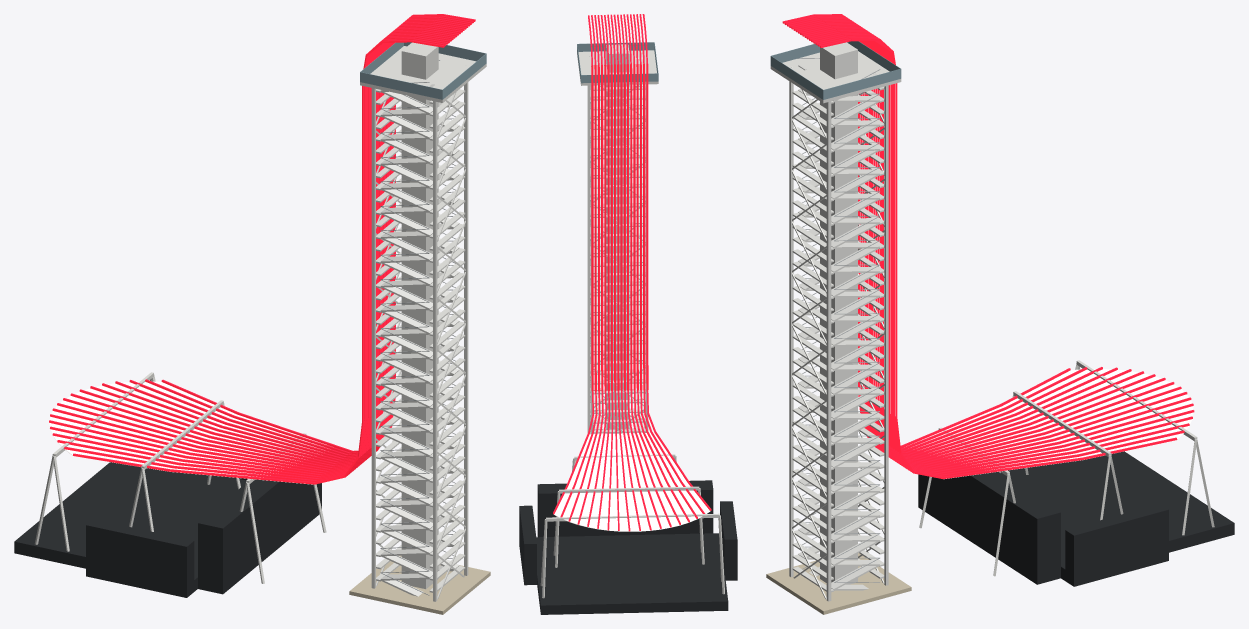
The model's file is cota_tower.glb.
3 views of the same model, side by side, from view 1: azimuth 30°, elevation 25°; view 2: azimuth 150°, elevation 25°; view 3: azimuth 270°, elevation 25° (orthographic). The views are drawn at different scales.
Parts seen in each view (by area): view 1: austin-observation-tower; view 2: austin-observation-tower; view 3: austin-observation-tower.
Part boxes in pixels (left/top/right/bottom): austin-observation-tower: left=14, top=14, right=490, bottom=614; austin-observation-tower: left=519, top=14, right=737, bottom=614; austin-observation-tower: left=766, top=14, right=1234, bottom=614.
Bounding box in the file's own units: 47.84 × 76.73 × 57.98.
